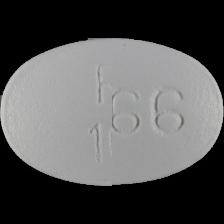61786-698: (0, 0, 224, 224)
